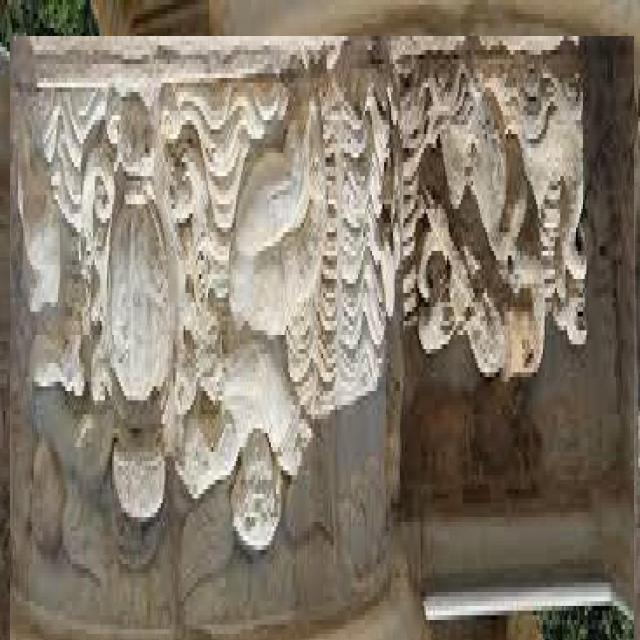Liontaria: (11, 37, 635, 640)
